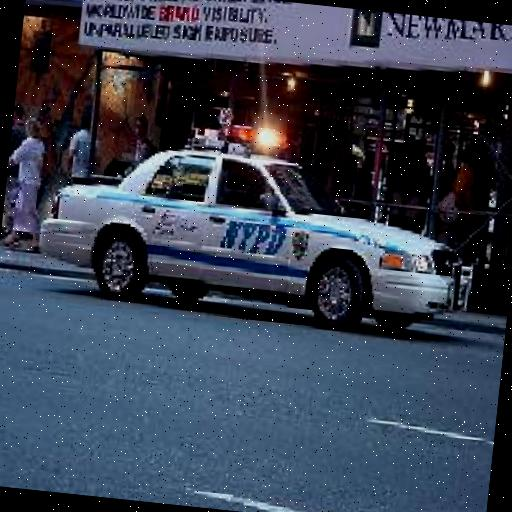Ambulance: (33, 119, 484, 347)
